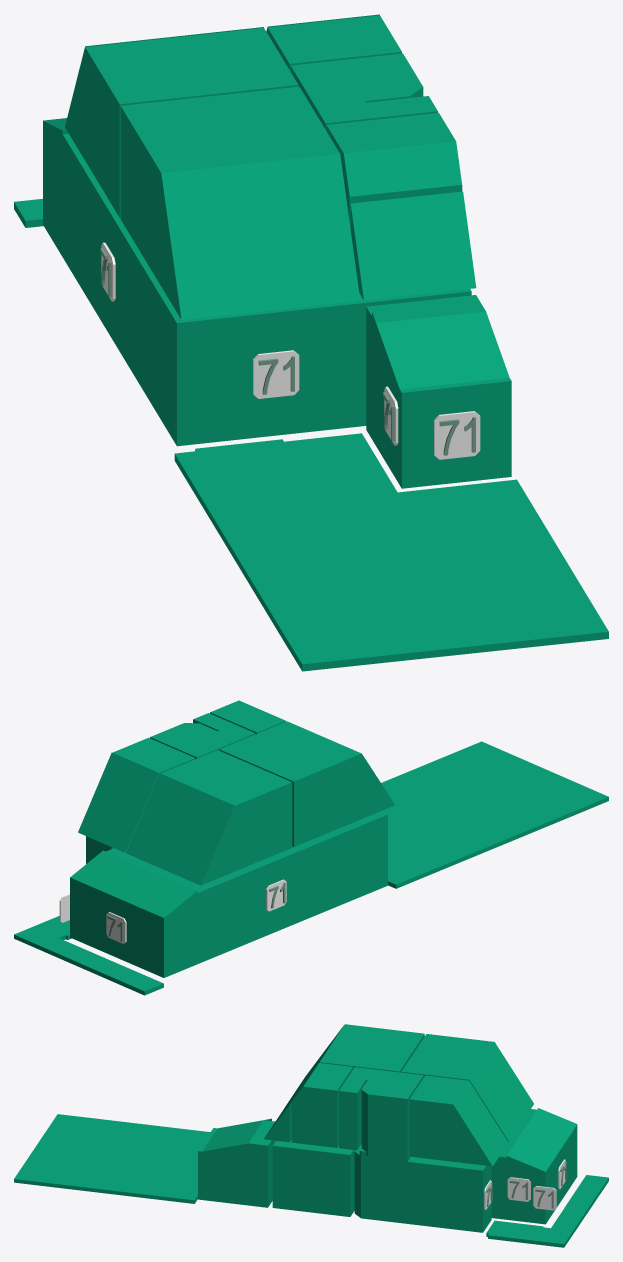
The picture shows the model from 3 angles, top to bottom: view 1: azimuth 30°, elevation 25°; view 2: azimuth 150°, elevation 25°; view 3: azimuth 270°, elevation 25°; orthographic projection. The views are drawn at different scales.
Parts seen in each view (by area): view 1: g_15, g_7, g_0, g_5, g_8, g_1, g_12, g_6, g_10, g_9, g_11, g_30 (+1 smaller); view 2: g_1, g_15, g_8, g_7, g_9, g_0, g_14, g_10, g_6, g_13, g_11, g_18 (+1 smaller); view 3: g_15, g_9, g_1, g_8, g_5, g_0, g_4, g_2, g_7, g_6, g_11, g_10 (+5 smaller).
Part boxes in pixels (left/top/right/bottom): g_15: left=174, top=433, right=608, bottom=671; g_7: left=120, top=86, right=360, bottom=319; g_0: left=137, top=256, right=471, bottom=446; g_5: left=366, top=295, right=511, bottom=488; g_8: left=65, top=27, right=298, bottom=217; g_1: left=43, top=118, right=142, bottom=379; g_12: left=350, top=191, right=476, bottom=300; g_6: left=326, top=112, right=462, bottom=228; g_10: left=290, top=58, right=437, bottom=130; g_9: left=266, top=14, right=401, bottom=71; g_11: left=353, top=53, right=423, bottom=102; g_30: left=253, top=350, right=299, bottom=398; g_1: left=70, top=839, right=320, bottom=977; g_15: left=381, top=741, right=608, bottom=888; g_8: left=126, top=750, right=292, bottom=885; g_7: left=219, top=721, right=394, bottom=846; g_9: left=78, top=737, right=195, bottom=852; g_0: left=314, top=811, right=387, bottom=912; g_14: left=40, top=938, right=163, bottom=995; g_10: left=169, top=713, right=255, bottom=758; g_6: left=210, top=700, right=285, bottom=734; g_13: left=14, top=916, right=71, bottom=949; g_11: left=150, top=723, right=216, bottom=746; g_18: left=106, top=912, right=126, bottom=943; g_15: left=14, top=1114, right=210, bottom=1203; g_9: left=409, top=1075, right=508, bottom=1166; g_1: left=491, top=1108, right=577, bottom=1224; g_8: left=401, top=1034, right=533, bottom=1141; g_5: left=198, top=1118, right=275, bottom=1207; g_0: left=272, top=1140, right=355, bottom=1216; g_4: left=410, top=1157, right=491, bottom=1232; g_2: left=354, top=1144, right=413, bottom=1224; g_7: left=281, top=1024, right=424, bottom=1112; g_6: left=291, top=1063, right=352, bottom=1147; g_11: left=361, top=1080, right=413, bottom=1156; g_10: left=339, top=1067, right=423, bottom=1150.
Bounding box in the file's own units: 11.56 × 5.36 × 22.35.
